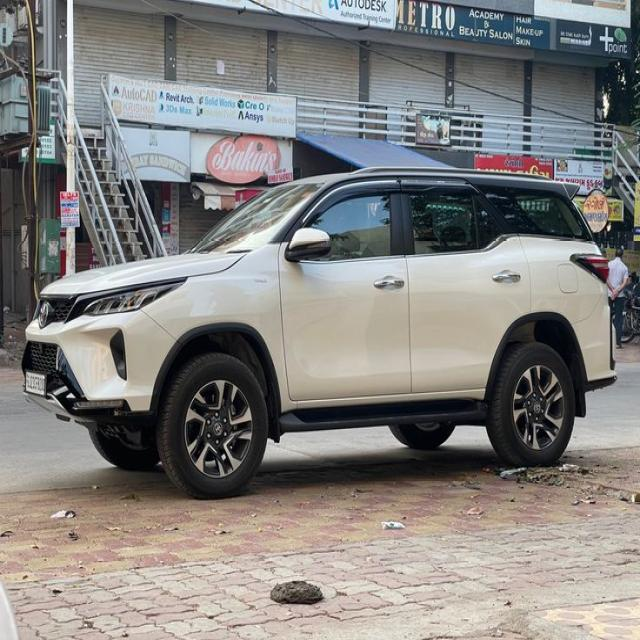light_vehicle: (21, 167, 617, 501)
